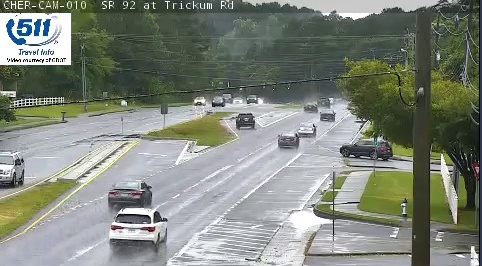car: (110, 207, 167, 245), (108, 180, 152, 205), (278, 132, 299, 147), (236, 113, 255, 128), (297, 122, 316, 136), (319, 109, 335, 122)
